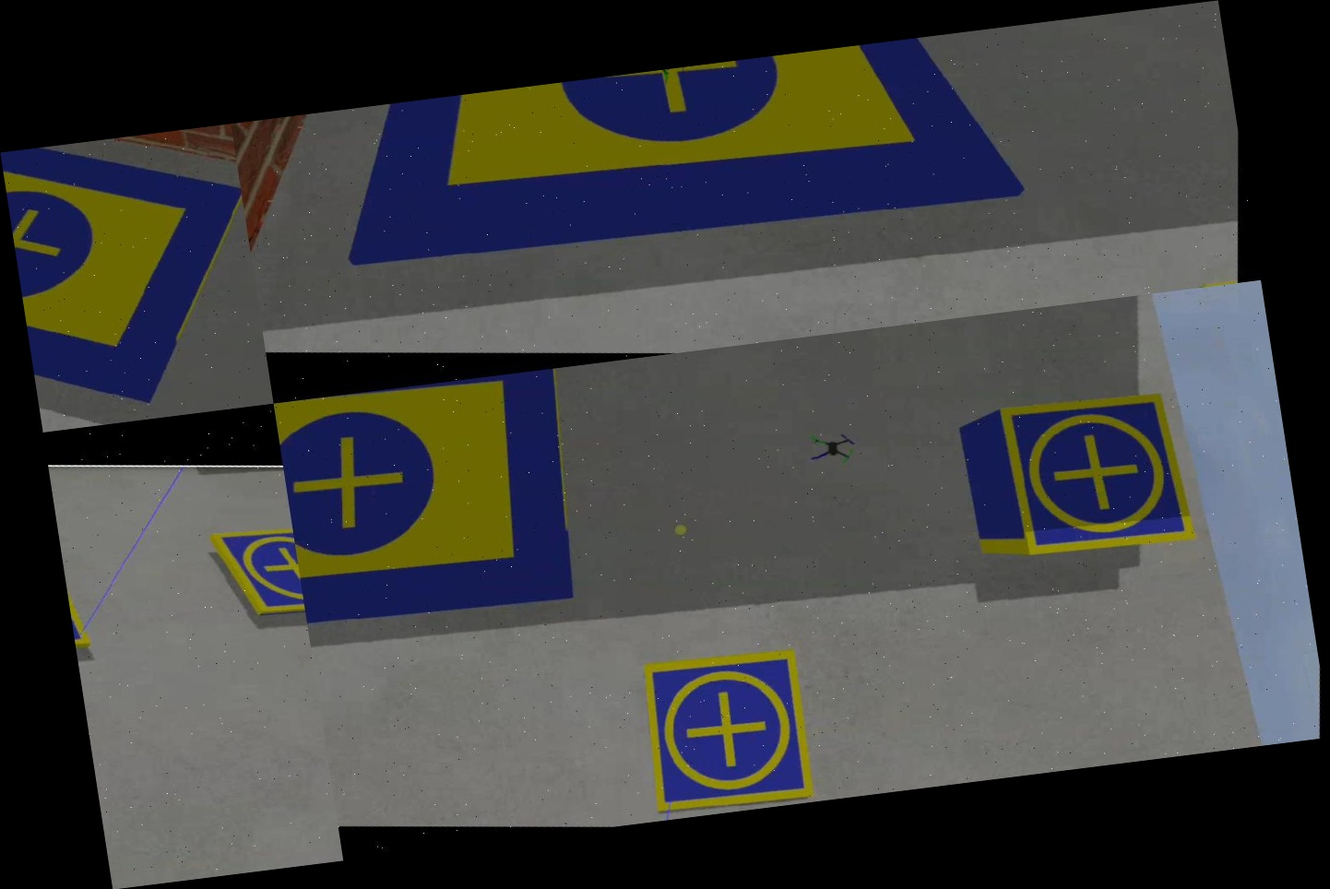large_base: (326, 22, 1076, 345), (274, 364, 624, 679), (0, 124, 274, 433)
small_base: (970, 366, 1222, 580), (618, 632, 841, 823), (201, 516, 307, 637)
